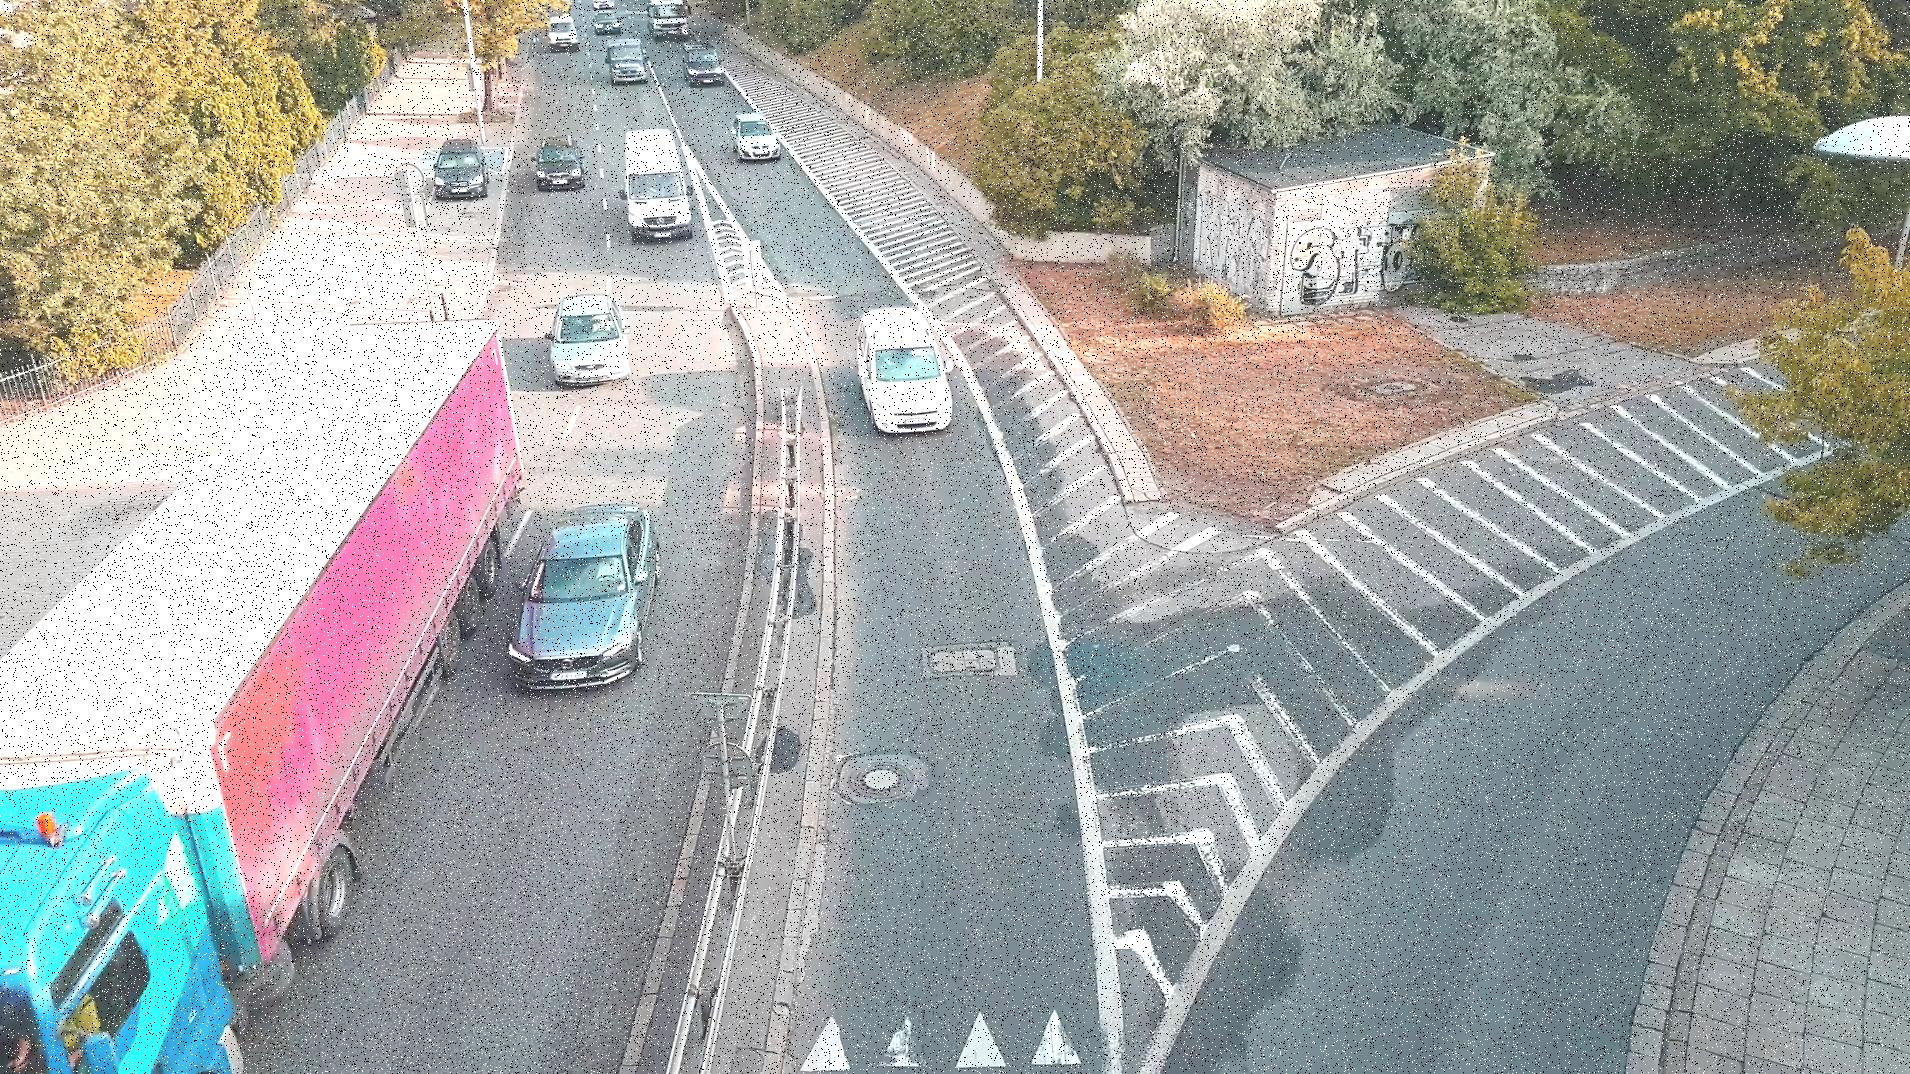car: (503, 485, 675, 685), (865, 296, 954, 430), (541, 287, 634, 385), (621, 122, 686, 245), (423, 133, 491, 204), (532, 132, 586, 195), (684, 33, 732, 85), (728, 111, 769, 163), (608, 37, 647, 87)
truck: (1, 301, 521, 1074)
